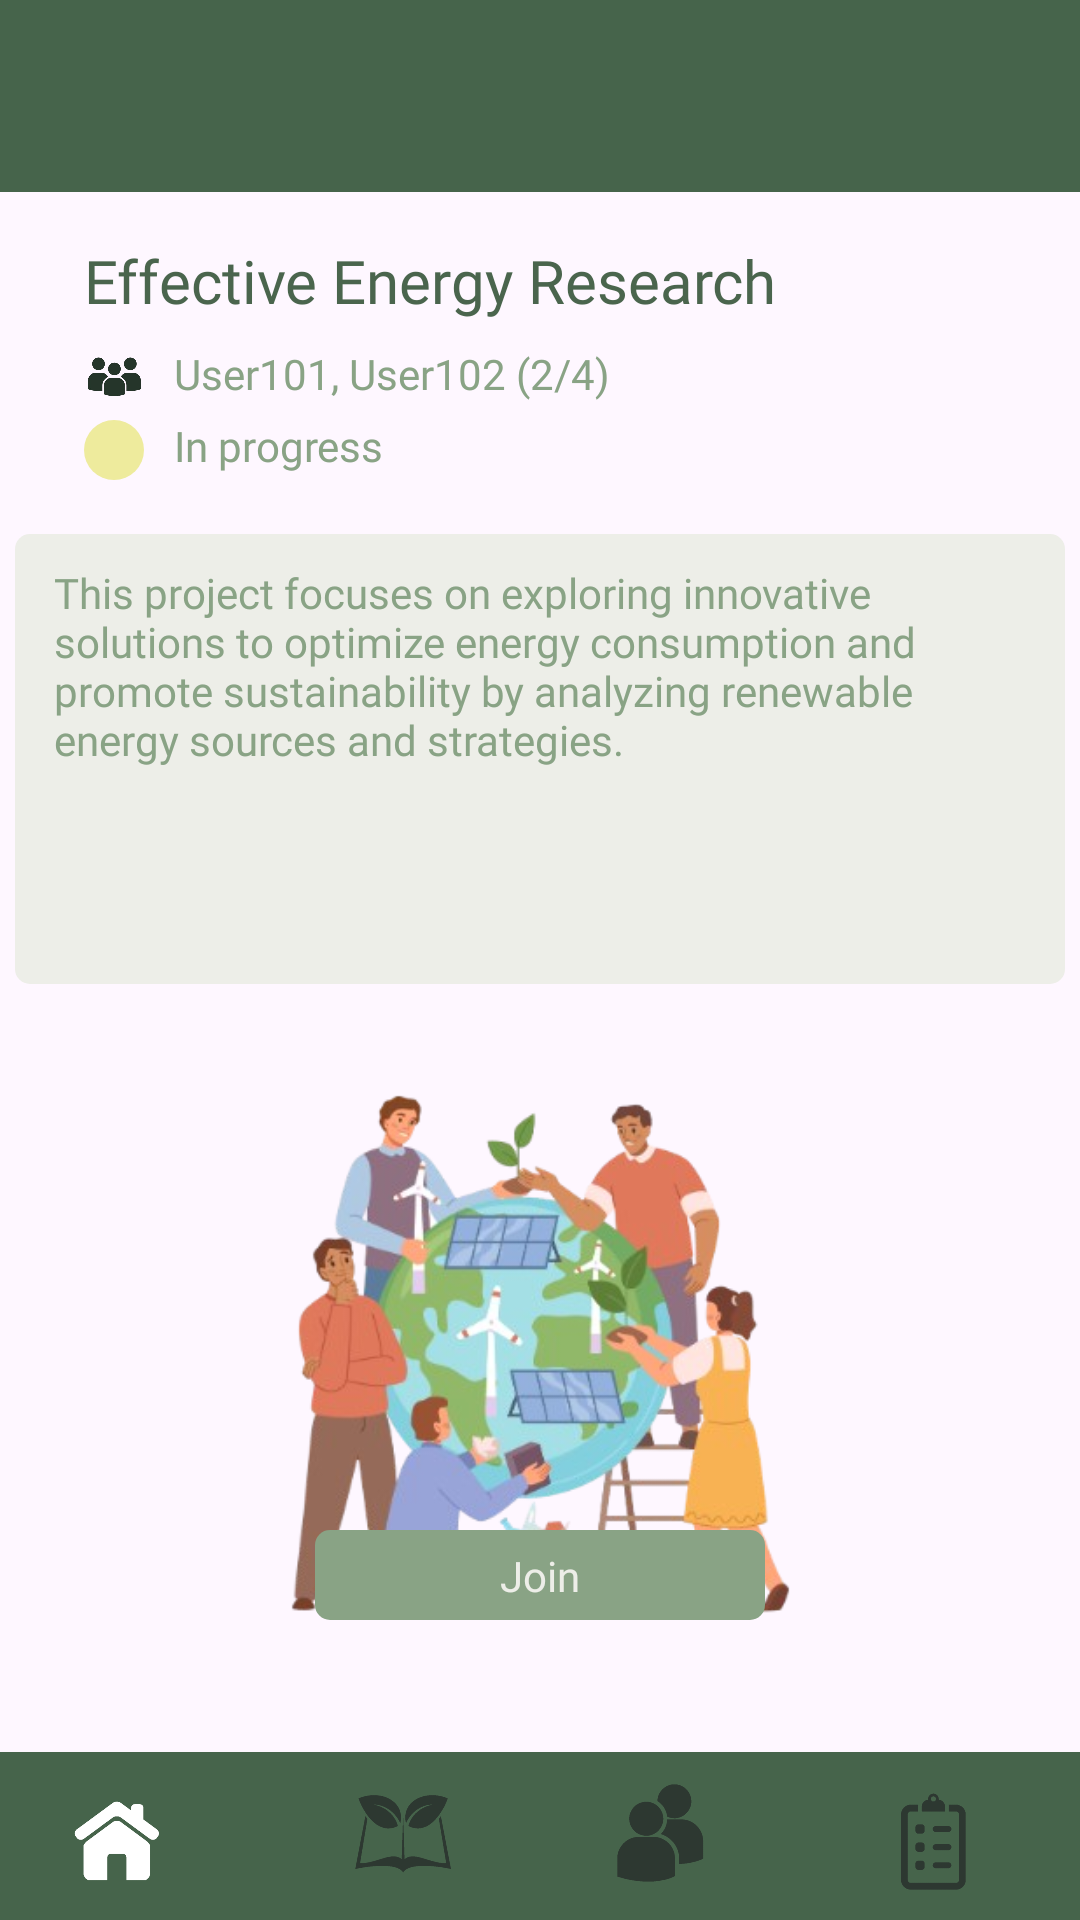

Point at icon controls on the screen. Image size 1080px x 1920px, points as point (x, y).
collab group: point (114, 376)
